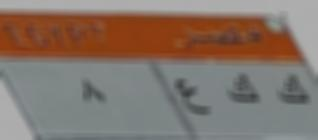8: (78, 75, 108, 110)
ain: (175, 72, 212, 123)
kaaf: (218, 70, 267, 113), (274, 71, 312, 113)
